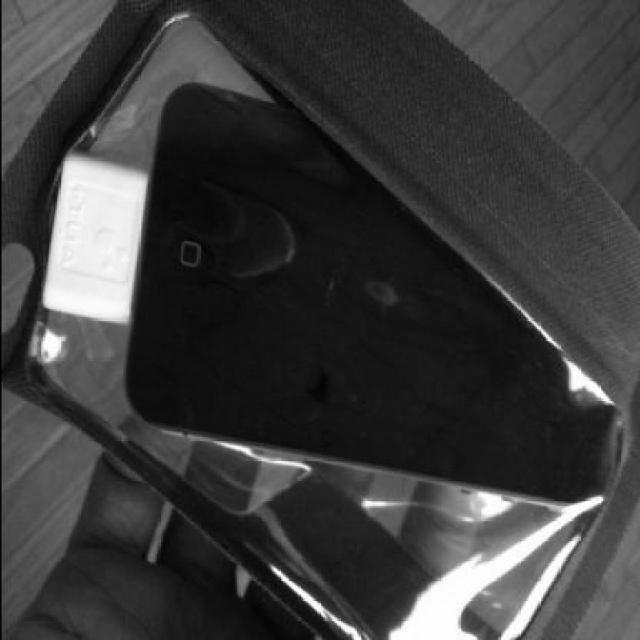fake: (122, 78, 618, 510)
